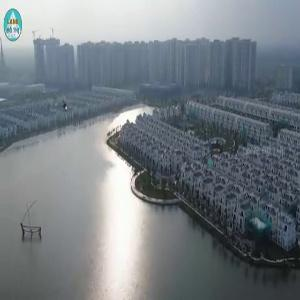drone: (52, 94, 79, 121)
